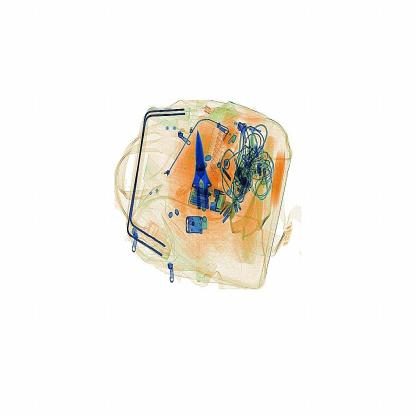gun: (178, 123, 233, 230)
